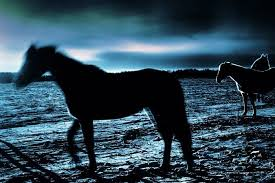Horse: (9, 42, 202, 177), (215, 59, 275, 110), (244, 50, 275, 86)
